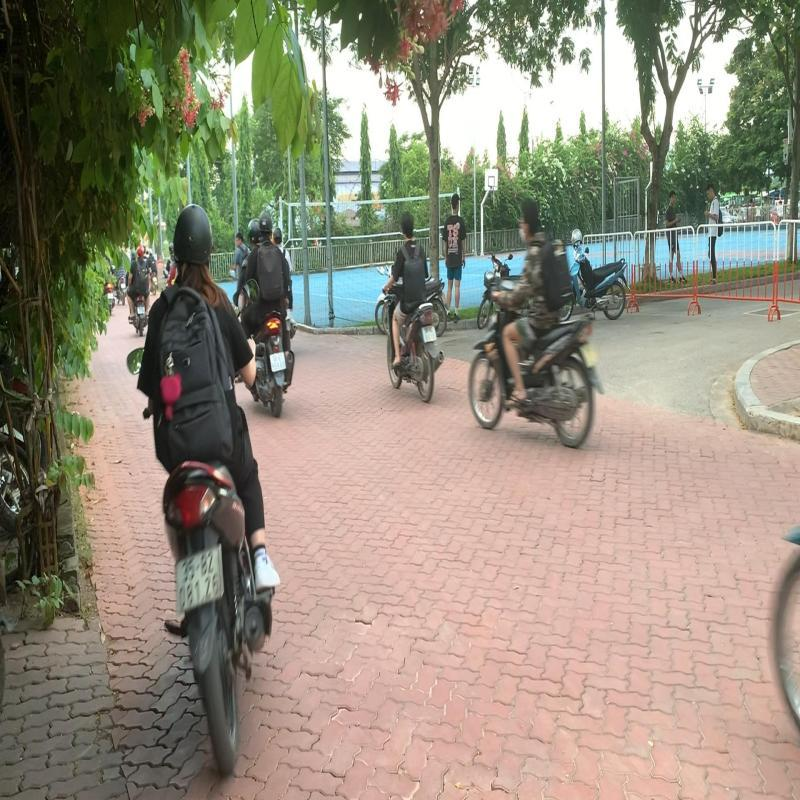nohelmet: (399, 208, 416, 241)
